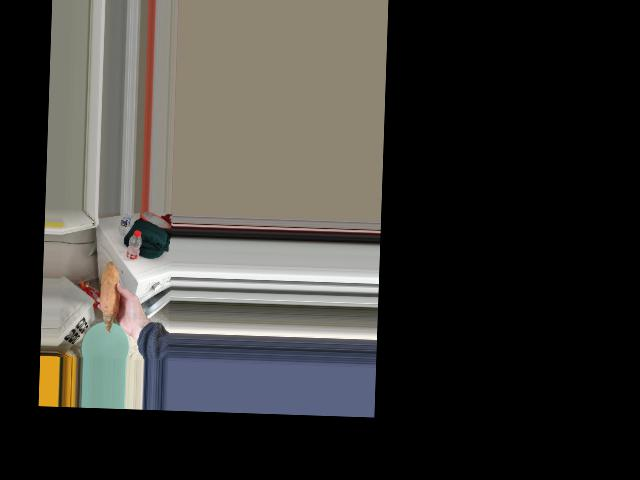sweet_potato: (102, 270, 119, 323)
